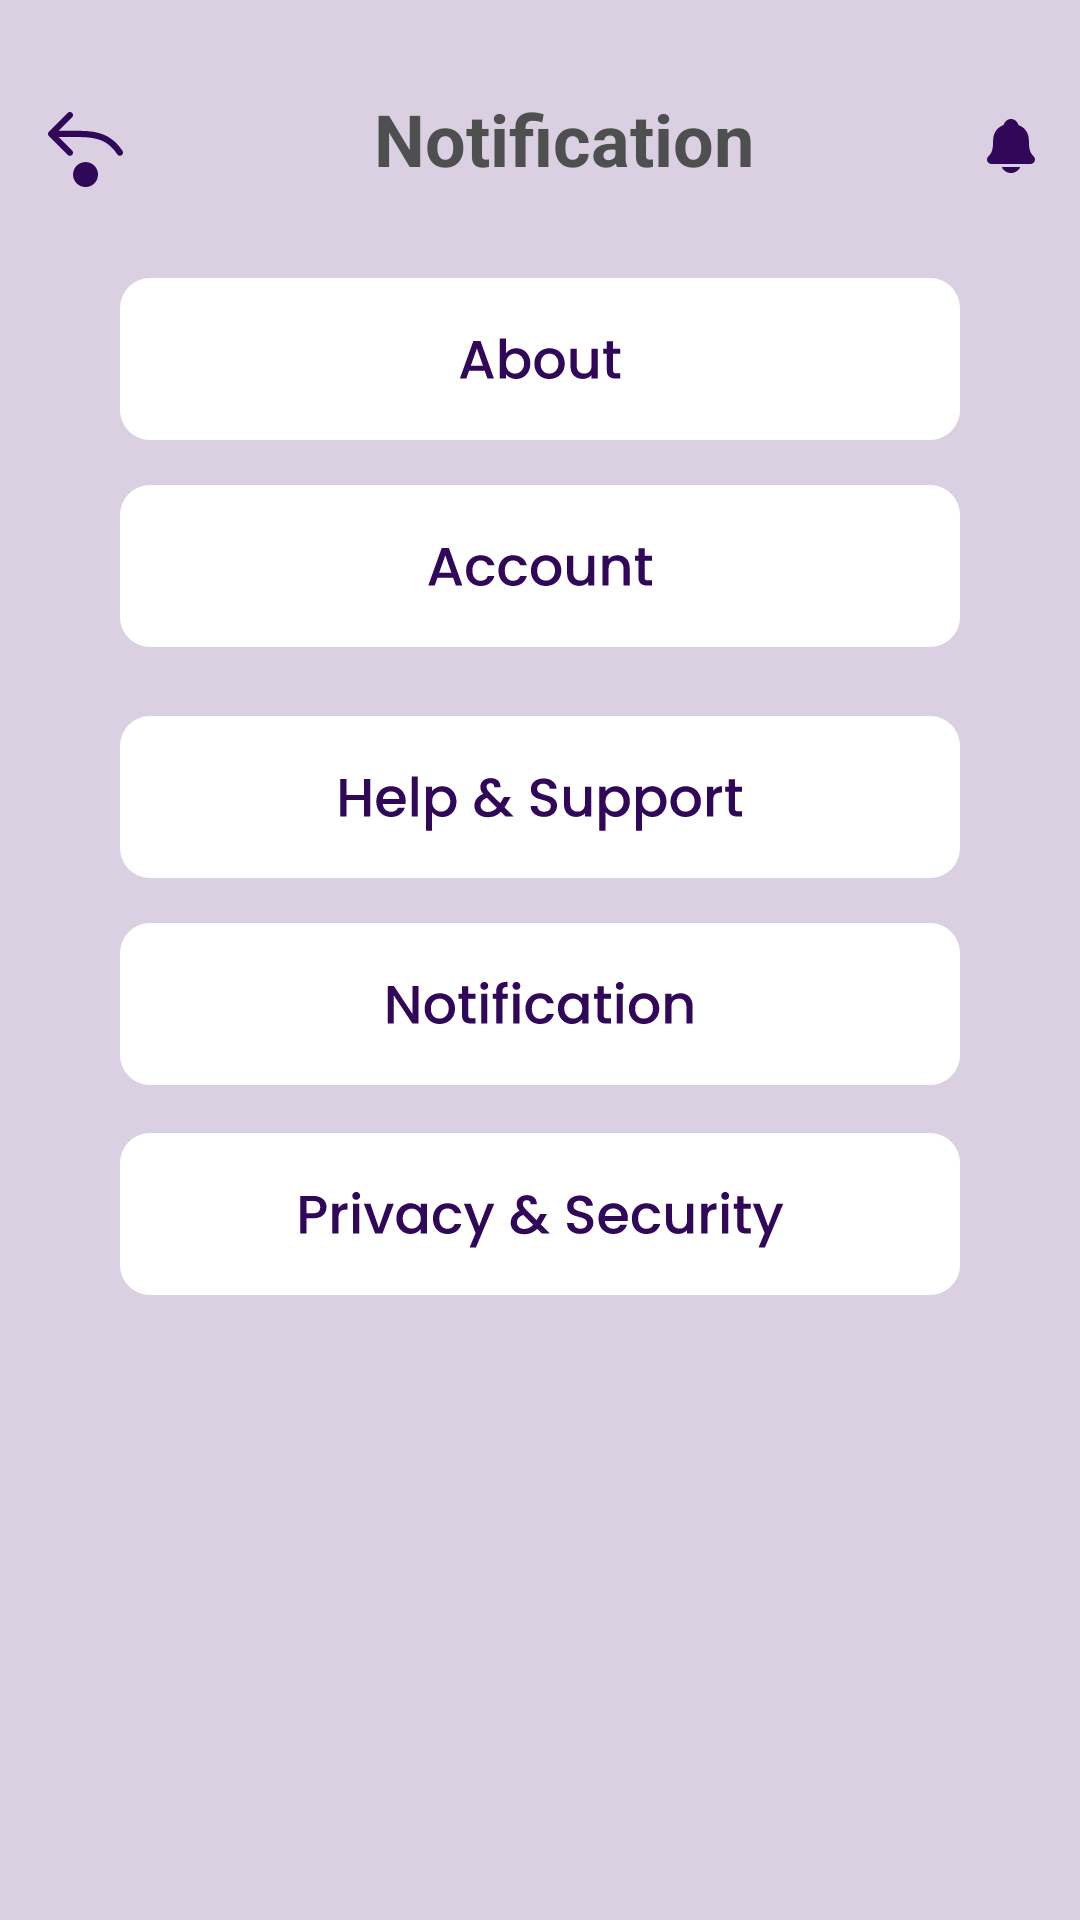

Point at icon controls on the screen. Image size 1080 x 1920, points as (x=x, y=y).
backicon: (x=85, y=149)
